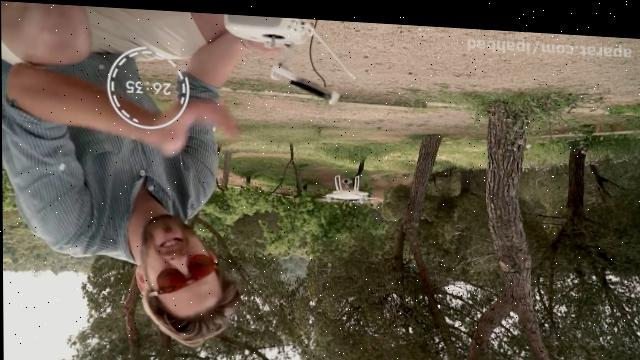drone: (314, 168, 378, 204)
